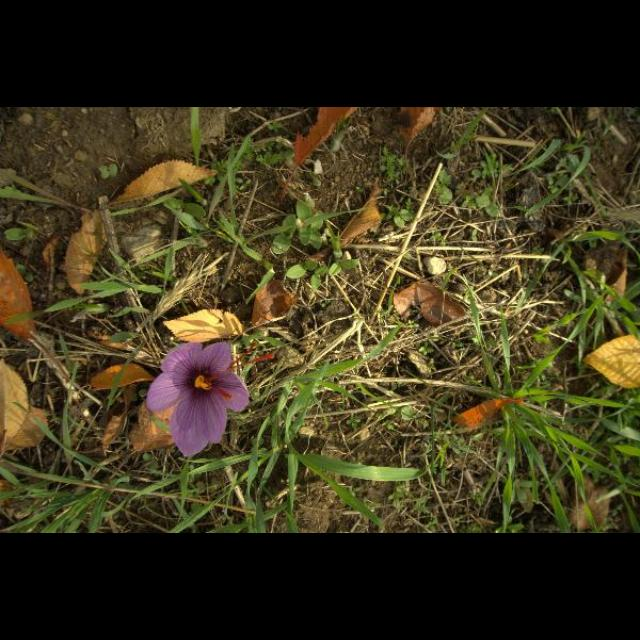flower: (147, 341, 276, 459)
